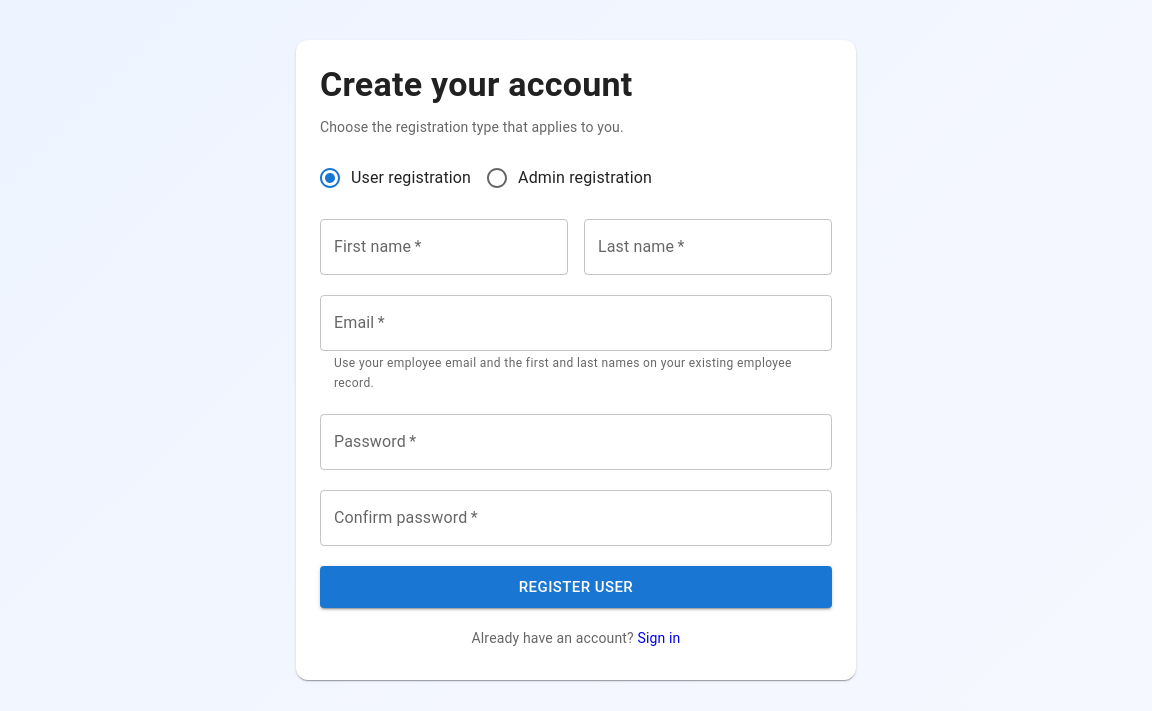
Test case: RegistrationPage › registers a User with names, email, password, and confirmation
Type "John" into the field labelled "First name" at (444, 247), box [320,219,568,275]
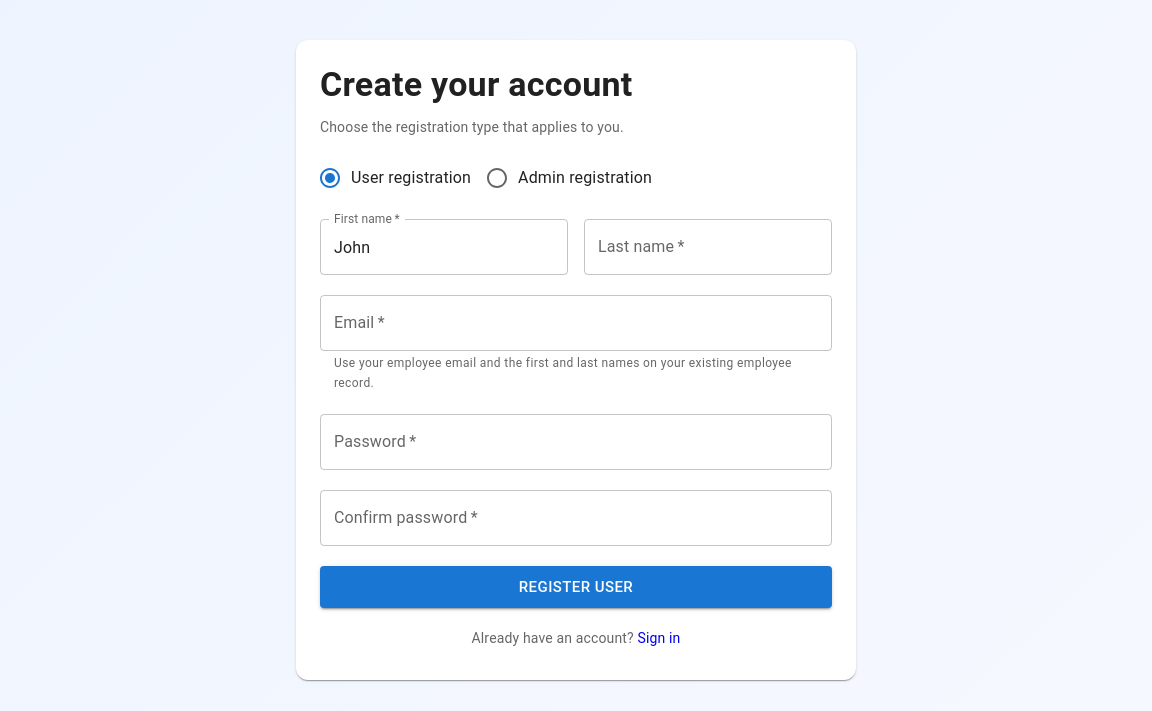
Type "Smith" into the field labelled "Last name" at (708, 247), box [584,219,832,275]
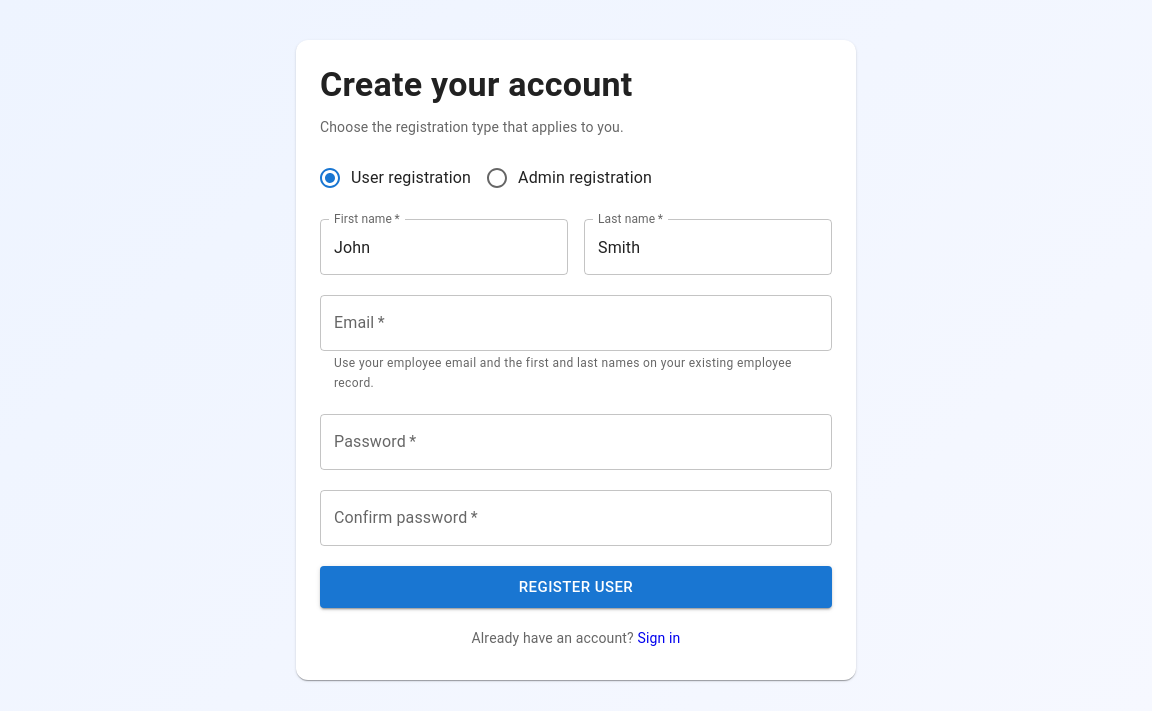
Type "john.smith@gmail.com" into the field labelled "Email" at (576, 323), box [320,295,832,351]
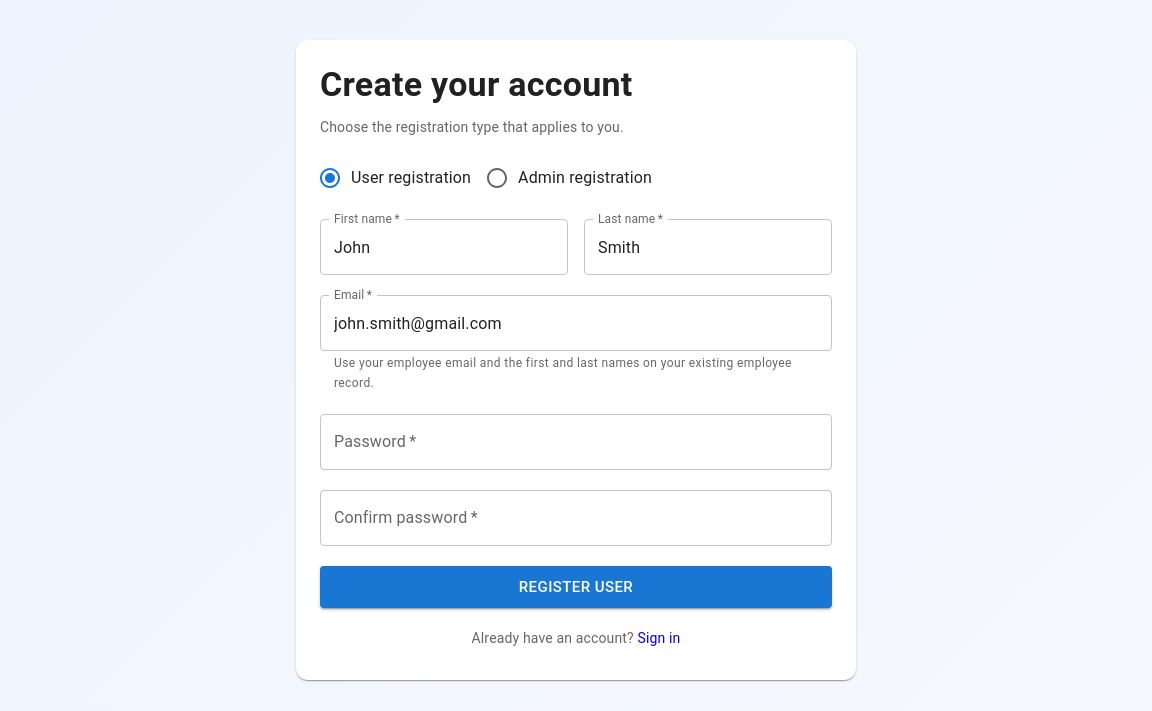
Type "EmployeePass456" into the password field labelled "Password *" at (576, 442), box [320,414,832,470]
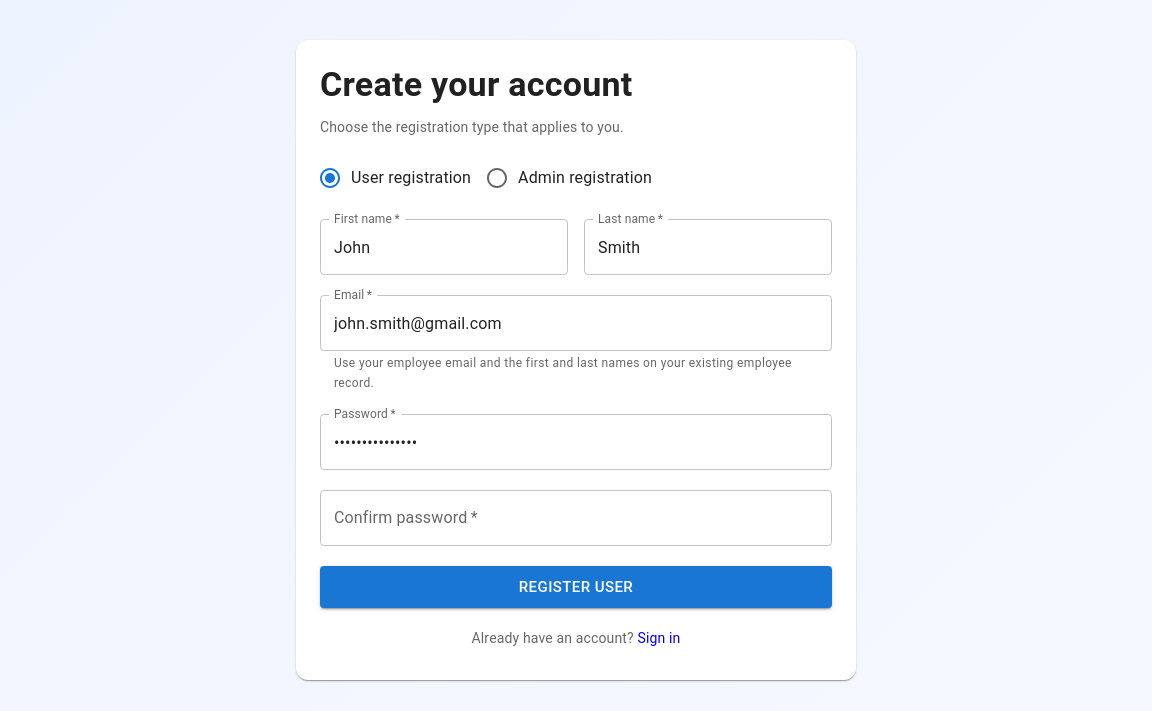
Type "EmployeePass456" into the password field labelled "Confirm password *" at (576, 518), box [320,490,832,546]
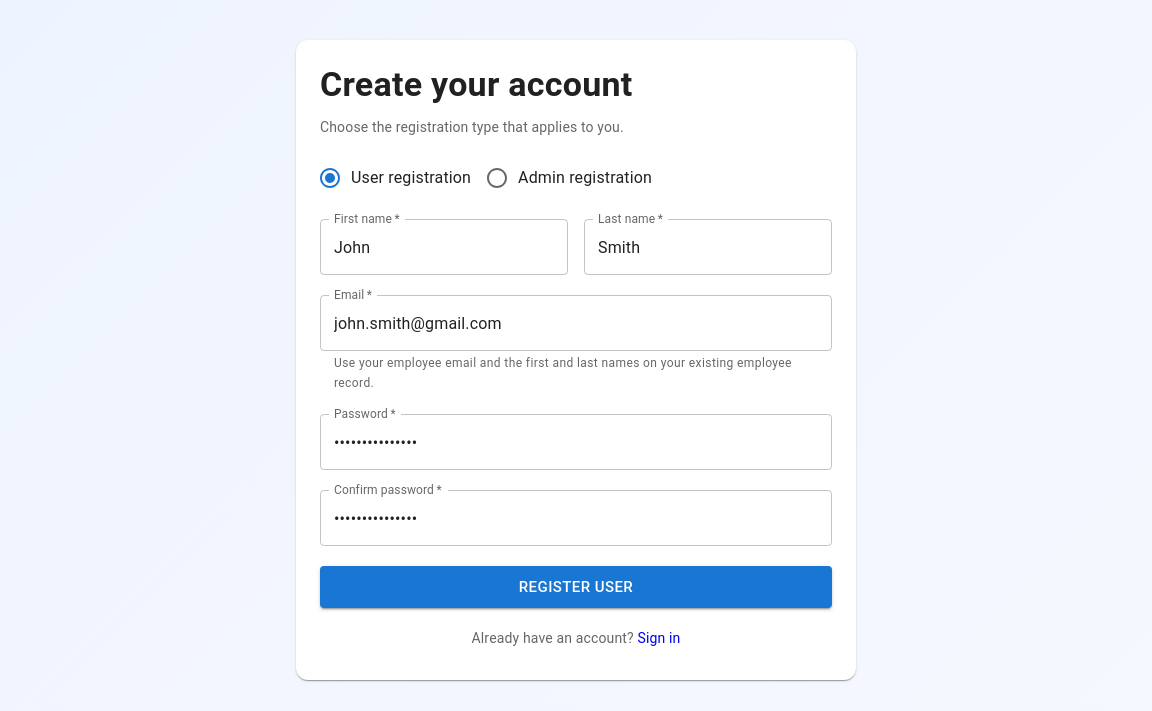
Click the button "Register User" at (576, 587), box [320,566,832,608]
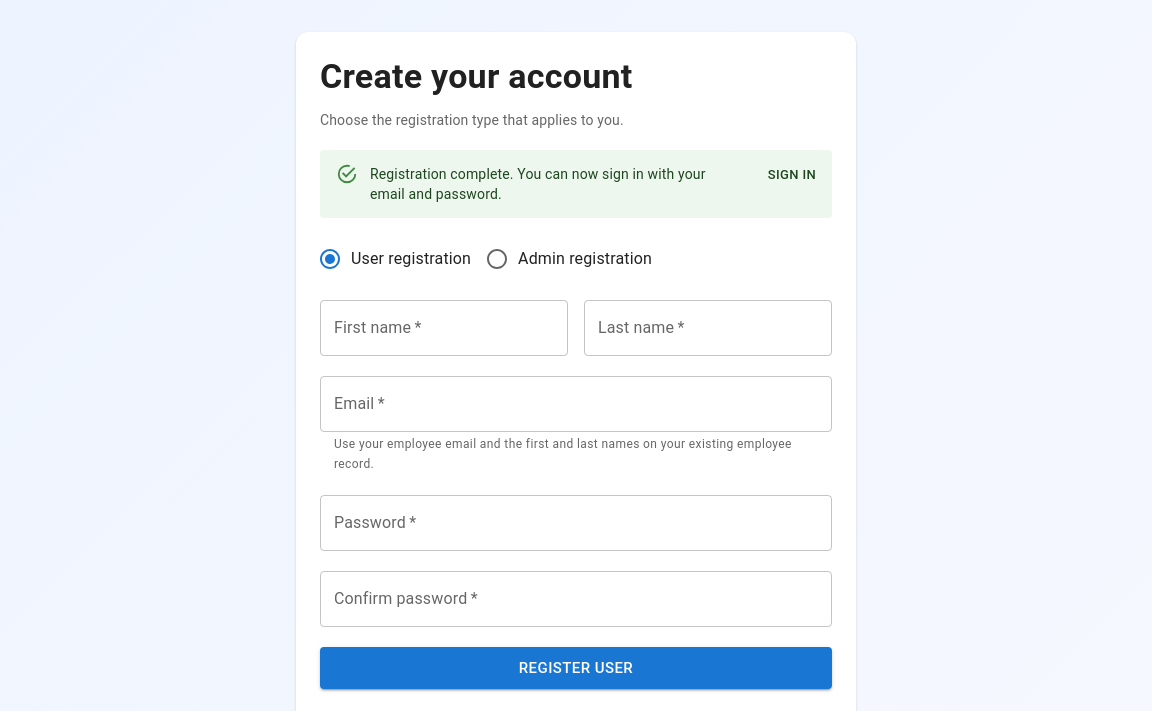
Now the text "Registration complete" is shown, box [370,166,706,202]
